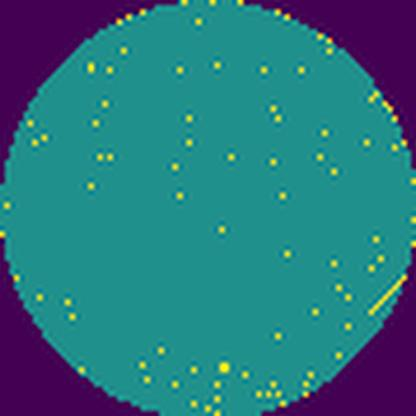Scratch: (366, 274, 409, 320)
